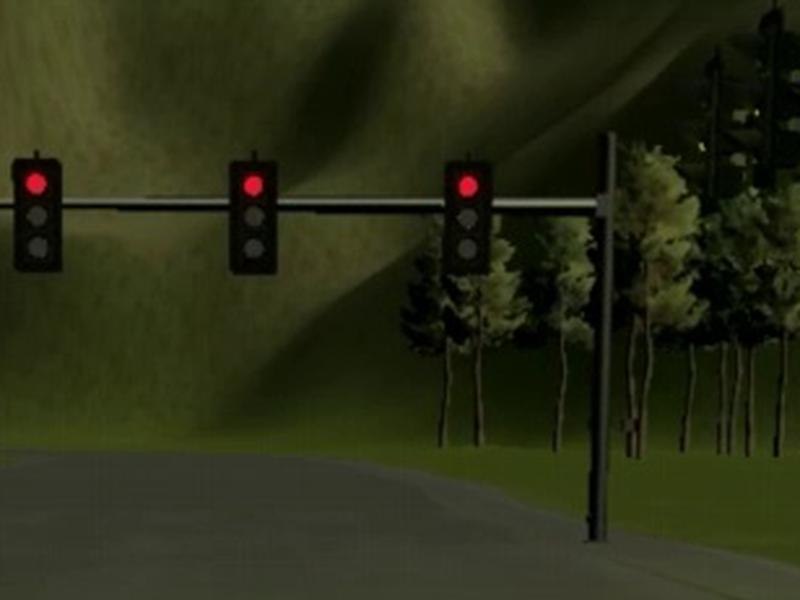Red: (13, 160, 64, 273), (230, 161, 280, 276), (444, 162, 492, 273)
